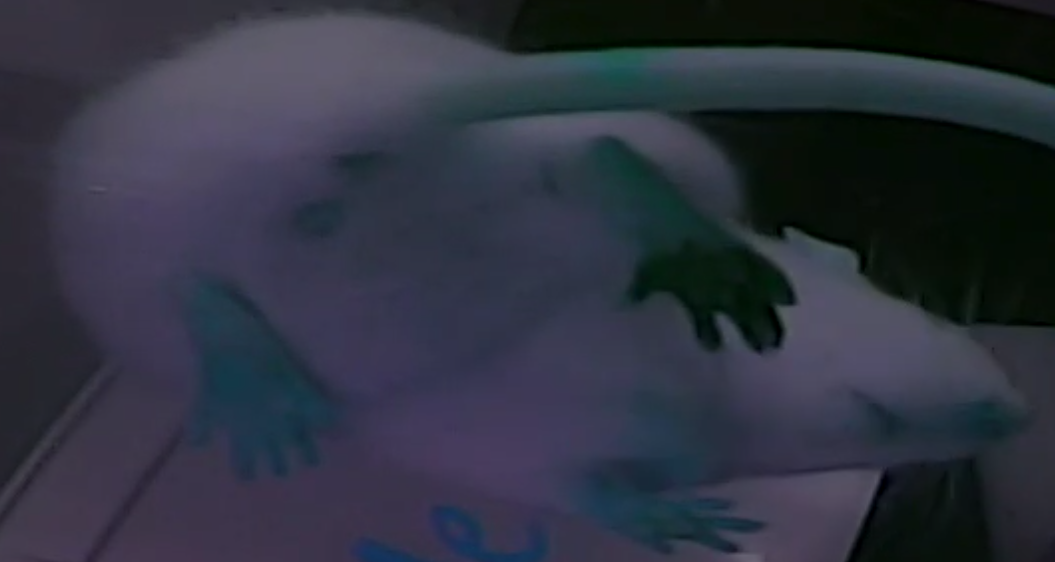paw: (541, 130, 799, 366), (144, 243, 357, 514), (554, 375, 772, 553)
